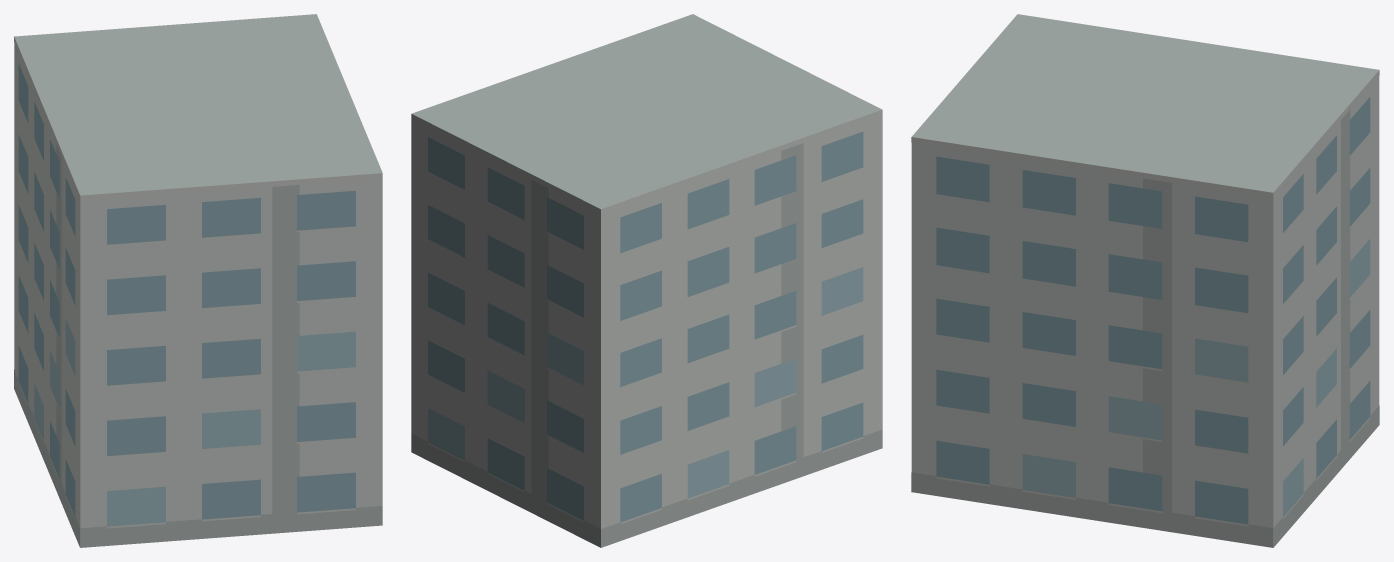
Rendered from residential-74473e4c-3b4f-4d49-88c3-cfbecf6ea925.glb.
3 views of the same model, side by side, from view 1: azimuth 30°, elevation 25°; view 2: azimuth 150°, elevation 25°; view 3: azimuth 270°, elevation 25° (orthographic). The views are drawn at different scales.
Visible parts, largest first — view 1: residential-74473e4c-3b4f-4d49-88c3-cfbecf6ea925.tmp; view 2: residential-74473e4c-3b4f-4d49-88c3-cfbecf6ea925.tmp; view 3: residential-74473e4c-3b4f-4d49-88c3-cfbecf6ea925.tmp.
Part boxes in pixels (x1,y1,x2,y2): residential-74473e4c-3b4f-4d49-88c3-cfbecf6ea925.tmp: [14, 14, 382, 547]; residential-74473e4c-3b4f-4d49-88c3-cfbecf6ea925.tmp: [411, 14, 882, 547]; residential-74473e4c-3b4f-4d49-88c3-cfbecf6ea925.tmp: [911, 14, 1379, 547].
Bounding box in the file's own units: 16.47 × 15.25 × 18.22.
